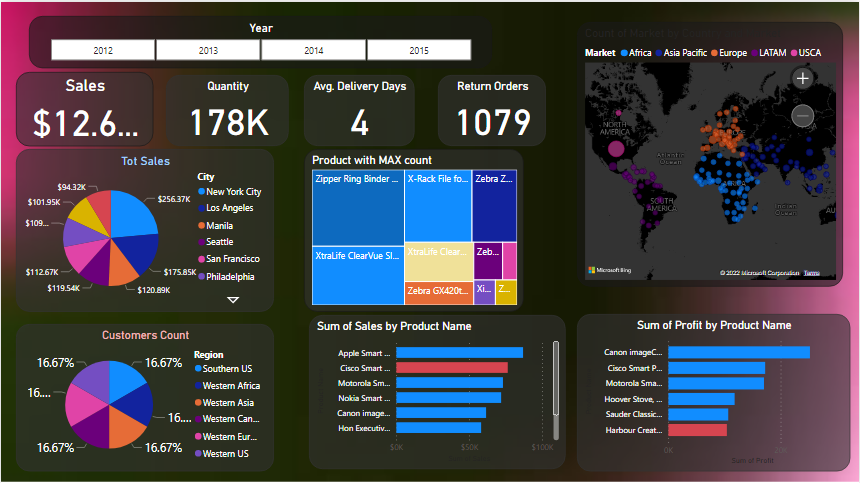

This screenshot's page, from the dashboard's own definition file:
{"tool":"powerbi","page":{"name":"Page 1","canvas":[1280,720],"ordinal":0},"visuals":[{"type":"card","title":"Sales","fields":{"Values":["Sum(Orders.Sales)"]},"box":[21.8,104.1,204.9,110.9],"z":0},{"type":"card","title":"Quantity","fields":{"Values":["Sum(Orders.Quantity)"]},"box":[246.9,109.2,183.1,105.8],"z":1000},{"type":"card","title":"Avg. Delivery Days","fields":{"Values":["Avg(Orders.Delivery Days)"]},"box":[451.9,109.2,164.6,105.8],"z":2000},{"type":"card","title":"Return Orders","fields":{"Values":["Sum(Returns.Return Orders)"]},"box":[651.8,109.2,161.3,105.8],"z":3000},{"type":"barChart","fields":{"Category":["Orders.Product Name"],"Y":["Sum(Orders.Profit)"]},"box":[860,465,407.5,235],"z":4000},{"type":"barChart","fields":{"Category":["Orders.Product Name"],"Y":["Sum(Orders.Sales)"]},"box":[460,467.5,382.5,230],"z":5000},{"type":"pieChart","title":"Tot Sales","fields":{"Category":["Orders.City"],"Y":["Sum(Orders.Sales)"]},"box":[22.5,220,385,242.5],"z":6000},{"type":"pieChart","title":"Customers Count","fields":{"Y":["CountNonNull(People.Person)"],"Category":["People.Region"]},"box":[21.8,480.4,384.7,220.1],"z":7000},{"type":"treemap","title":"Product with MAX count","fields":{"Group":["Orders.Product Name"],"Values":["CountNonNull(Orders.Region)"]},"box":[452.5,220,327.5,242.5],"z":8000},{"type":"map","fields":{"Category":["Orders.Country"],"Series":["Orders.Market"],"Size":["CountNonNull(Orders.Market)"]},"box":[860.3,29.8,396.9,395.4],"z":9000},{"type":"slicer","title":"Year","fields":{"Values":["Orders.Year"]},"box":[41.3,20.6,690.9,78.5],"z":10000}]}

Visuals, with their boxes in screenshot pixels (x1, y1, x2, y2), scaled from the page's 1280x720 canvas onto the 860x483 screenshot:
"Sales" card: box(15, 70, 152, 144)
"Quantity" card: box(166, 73, 289, 144)
"Avg. Delivery Days" card: box(304, 73, 414, 144)
"Return Orders" card: box(438, 73, 546, 144)
barChart - Orders.Product Name x Sum(Orders.Profit): box(578, 312, 852, 470)
barChart - Orders.Product Name x Sum(Orders.Sales): box(309, 314, 566, 468)
"Tot Sales" pieChart: box(15, 148, 274, 310)
"Customers Count" pieChart: box(15, 322, 273, 470)
"Product with MAX count" treemap: box(304, 148, 524, 310)
map - Orders.Country x Orders.Market: box(578, 20, 845, 285)
"Year" slicer: box(28, 14, 492, 66)
